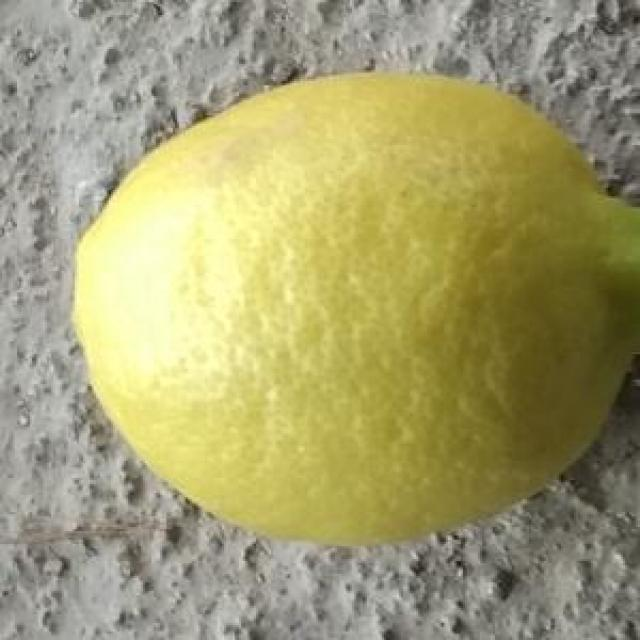lemon: (74, 68, 640, 554)
